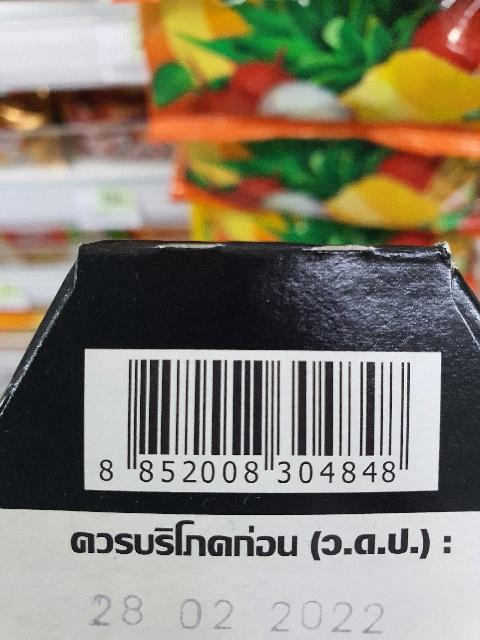Barcode: (92, 356, 416, 488)
